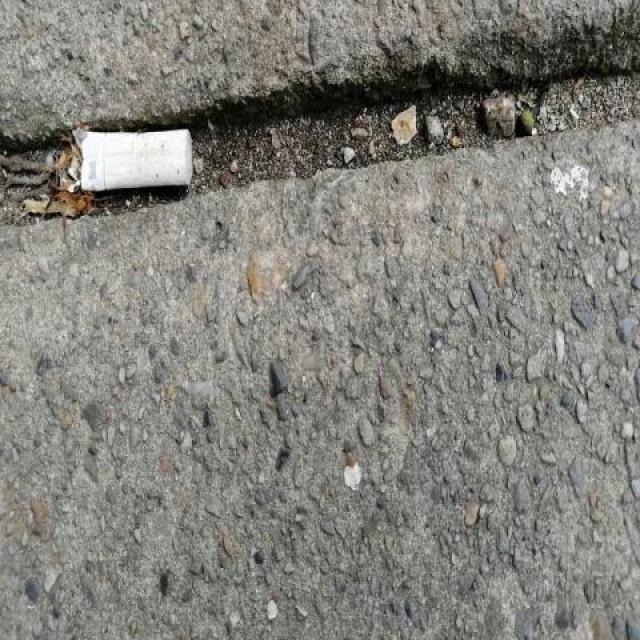non-organic waste: (69, 120, 200, 205)
